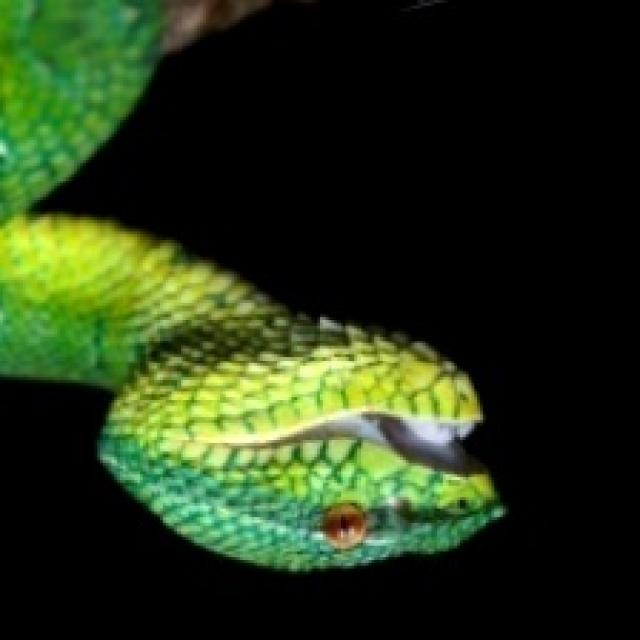north ph temple pitviper: (0, 214, 500, 569), (0, 0, 161, 219)
